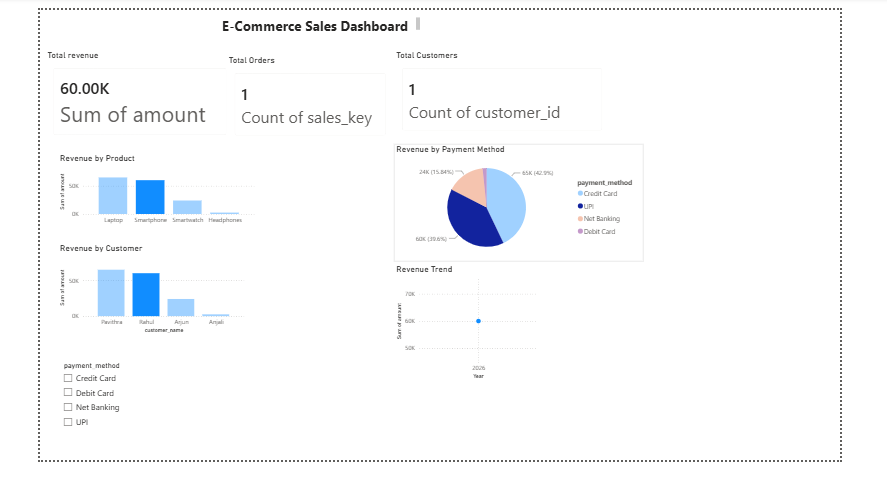

Layout of this report page (visuals, bound fields, positions):
{"tool":"powerbi","page":{"name":"Page 1","canvas":[1600,900],"ordinal":0},"visuals":[{"type":"cardVisual","title":"Total revenue","fields":{"Data":["Sum(public fact_sales.amount)"]},"box":[10.6,80.9,380.9,187.2],"z":0},{"type":"cardVisual","title":"Total Orders","fields":{"Data":["CountNonNull(public fact_sales.sales_key)"]},"box":[372.3,89.4,336.2,178.7],"z":1000},{"type":"pieChart","title":"Revenue by Payment Method","fields":{"Category":["public dim_payment.payment_method"],"Y":["Sum(public fact_sales.amount)"]},"box":[708.5,268.1,497.9,236.2],"z":2000},{"type":"clusteredColumnChart","title":"Revenue by Product","fields":{"Category":["public dim_product.product_name"],"Y":["Sum(public fact_sales.amount)"]},"box":[36.2,285.1,400,153.2],"z":3000},{"type":"clusteredColumnChart","title":"Revenue by Customer","fields":{"Category":["public dim_customer.customer_name"],"Y":["Sum(public fact_sales.amount)"]},"box":[35,502.5,380,187.5],"z":4000},{"type":"textbox","box":[360.5,10,404.8,51.5],"z":5000},{"type":"slicer","fields":{"Values":["public dim_payment.payment_method"]},"box":[35,740,380,160],"z":6000},{"type":"cardVisual","title":"Total Customers","fields":{"Data":["Count(public fact_sales.customer_id)"]},"box":[708.5,80.9,434,178.7],"z":7000},{"type":"lineChart","title":"Revenue Trend","fields":{"Category":["public dim_date.full_date.Variation.Date Hierarchy.Year","public dim_date.full_date.Variation.Date Hierarchy.Quarter","public dim_date.full_date.Variation.Date Hierarchy.Month","public dim_date.full_date.Variation.Date Hierarchy.Day"],"Y":["Sum(public fact_sales.amount)"]},"box":[708.5,506.4,291.5,236.2],"z":8000}]}

Visuals, with their boxes on the page's 1600x900 design canvas (x1, y1, x2, y2). These are canvas units, not pixel positions in the 887x480 screenshot, which may show the page scaled, cropped or inside an application window:
"Total revenue" cardVisual: 11, 81, 392, 268
"Total Orders" cardVisual: 372, 89, 708, 268
"Revenue by Payment Method" pieChart: 708, 268, 1206, 504
"Revenue by Product" clusteredColumnChart: 36, 285, 436, 438
"Revenue by Customer" clusteredColumnChart: 35, 502, 415, 690
textbox: 360, 10, 765, 62
slicer - public dim_payment.payment_method: 35, 740, 415, 900
"Total Customers" cardVisual: 708, 81, 1142, 260
"Revenue Trend" lineChart: 708, 506, 1000, 743
